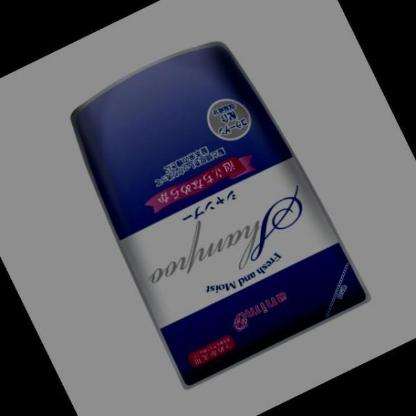Plastic Packaging: (70, 39, 374, 392)
